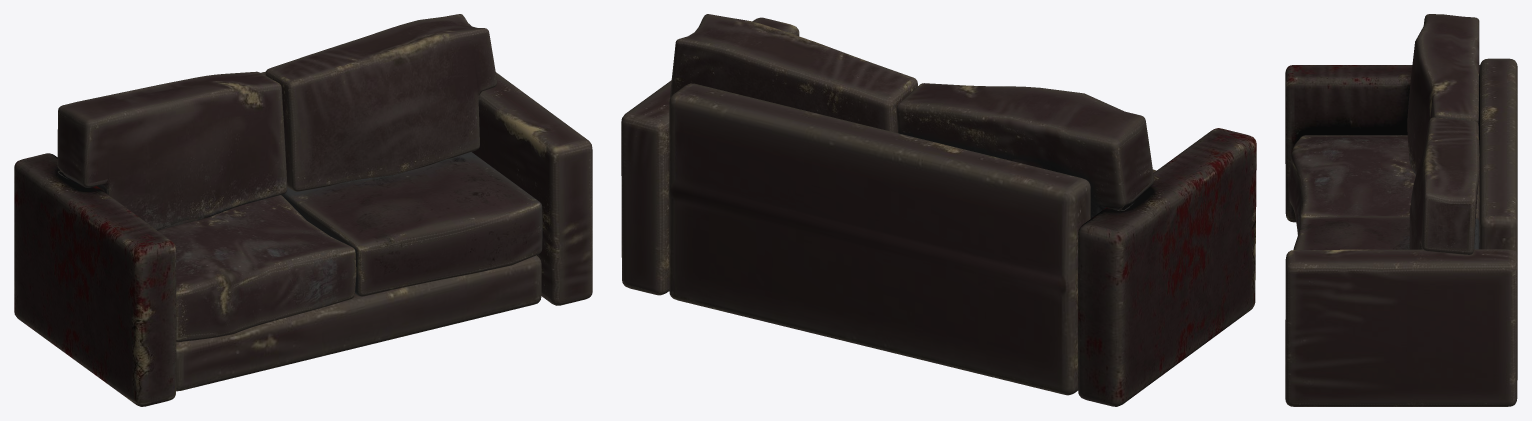
Rendered from sofa.glb.
3 renders of one model, left to right at view 1: azimuth 30°, elevation 25°; view 2: azimuth 150°, elevation 25°; view 3: azimuth 270°, elevation 25°, orthographic. The views are drawn at different scales.
Visible parts, largest first — view 1: Box001_5_0, Box001_2_0, Box001_1_0, Box001_3_0, Box001_4_0, Box001_7_0, Box001_6_0; view 2: Box001_7_0, Box001_5_0, Box001_1_0, Box001_2_0, Box001_6_0; view 3: Box001_6_0, Box001_4_0, Box001_5_0, Box001_2_0, Box001_1_0, Box001_7_0, Box001_3_0.
Part boxes in pixels (x1,y1,x2,y2): Box001_5_0: [14, 153, 176, 406]; Box001_2_0: [265, 14, 497, 191]; Box001_1_0: [57, 71, 287, 230]; Box001_3_0: [281, 152, 542, 296]; Box001_4_0: [158, 195, 356, 342]; Box001_7_0: [57, 71, 541, 391]; Box001_6_0: [472, 72, 592, 305]; Box001_7_0: [668, 83, 1090, 395]; Box001_5_0: [1078, 128, 1256, 406]; Box001_1_0: [896, 83, 1154, 218]; Box001_2_0: [670, 14, 917, 132]; Box001_6_0: [621, 17, 799, 295]; Box001_6_0: [1285, 249, 1517, 406]; Box001_4_0: [1288, 135, 1479, 242]; Box001_5_0: [1285, 65, 1480, 222]; Box001_2_0: [1409, 117, 1479, 254]; Box001_1_0: [1407, 14, 1479, 175]; Box001_7_0: [1479, 58, 1517, 379]; Box001_3_0: [1293, 216, 1479, 249].
Size of the model in its own units: 2.77 by 1.33 by 1.34.
Materials: 7 (7 with a texture image).
